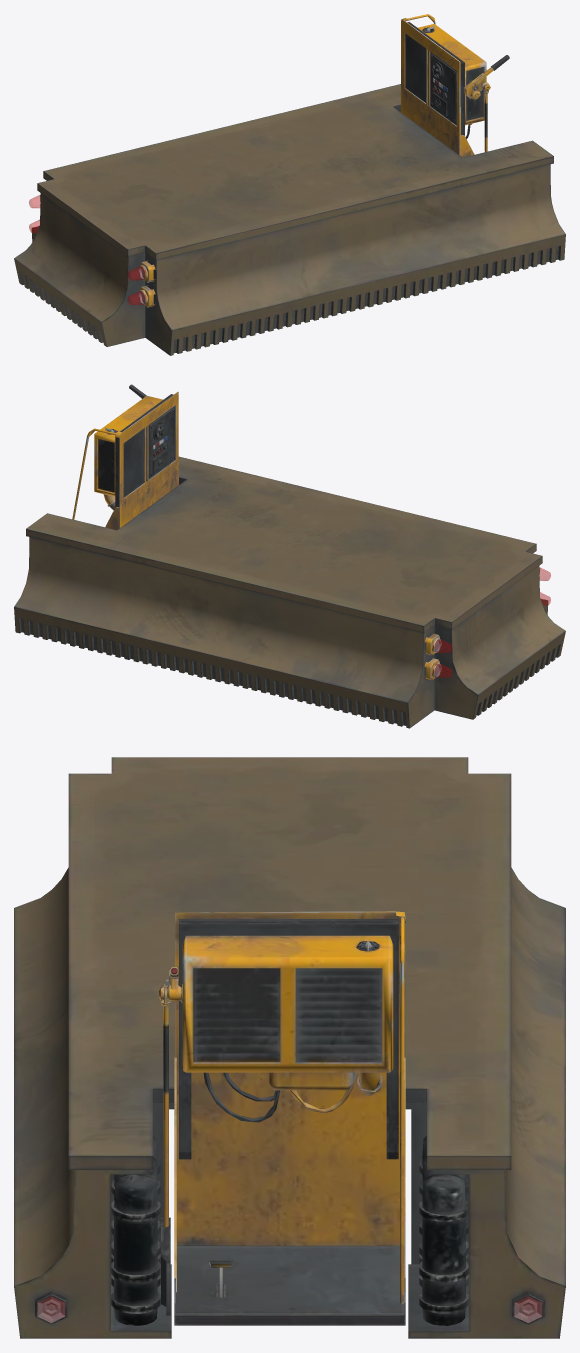
Rendered from yavinspeeder.glb.
The picture shows the model from 3 angles, top to bottom: view 1: azimuth 30°, elevation 25°; view 2: azimuth 150°, elevation 25°; view 3: azimuth 270°, elevation 25°; orthographic projection. The views are drawn at different scales.
Parts seen in each view (by area): view 1: Object_4, Object_20; view 2: Object_4, Object_20; view 3: Object_4, Object_20.
Part boxes in pixels (box(x1,y1,x2,y2)): Object_4: box(14, 14, 565, 355); Object_20: box(29, 87, 439, 304); Object_4: box(14, 384, 565, 728); Object_20: box(155, 449, 550, 677); Object_4: box(14, 757, 565, 1338); Object_20: box(38, 1296, 541, 1322).
Size of the model in its own units: 6 by 2.38 by 3.27.
Materials: 2 (1 with a texture image).
